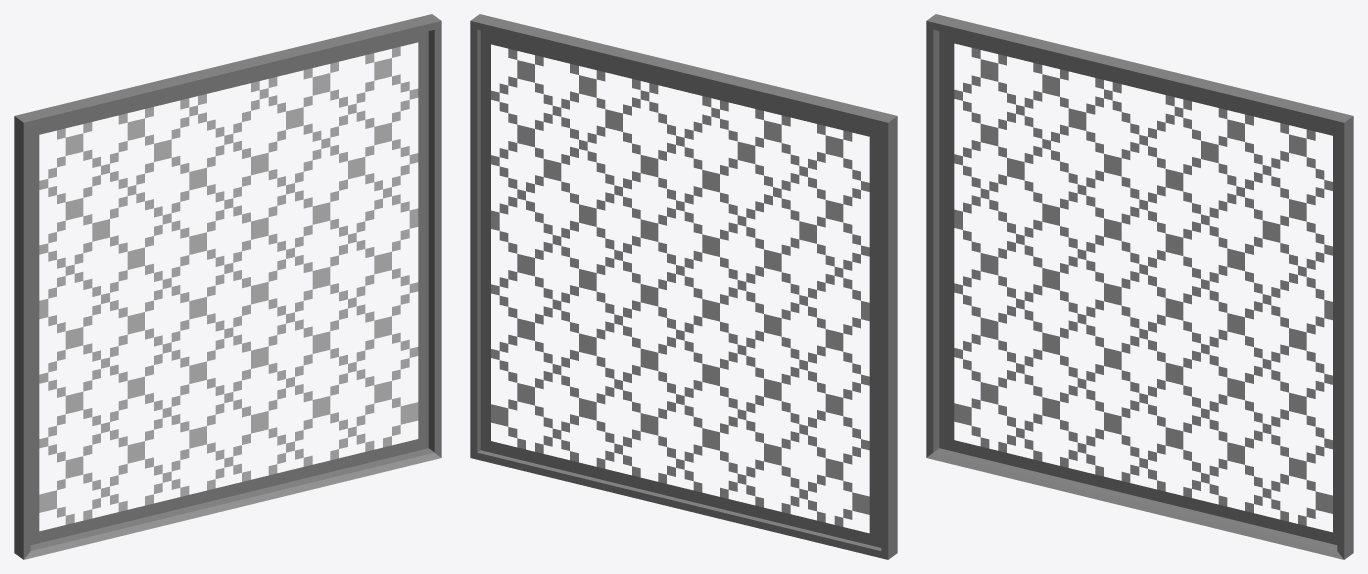
File: Grillage.glb
The picture shows the model from 3 angles, left to right: view 1: azimuth 30°, elevation 25°; view 2: azimuth 150°, elevation 25°; view 3: azimuth 330°, elevation 25°; orthographic projection.
Visible parts, largest first — view 1: Cube; view 2: Cube; view 3: Cube.
Boxes of the visible parts, x1,y1,x2,y2 form: Cube: (14, 14, 441, 559); Cube: (470, 14, 897, 559); Cube: (926, 14, 1353, 559).
Size of the model in its own units: 2 by 2 by 0.0776.
Materials: 1 (1 with a texture image).
